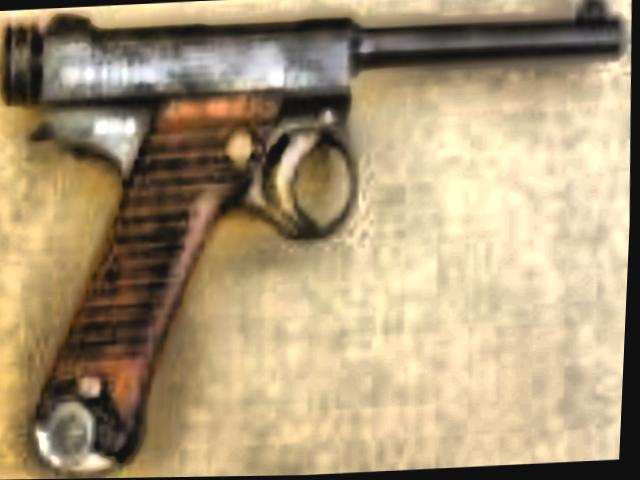pistol: (0, 0, 623, 459)
